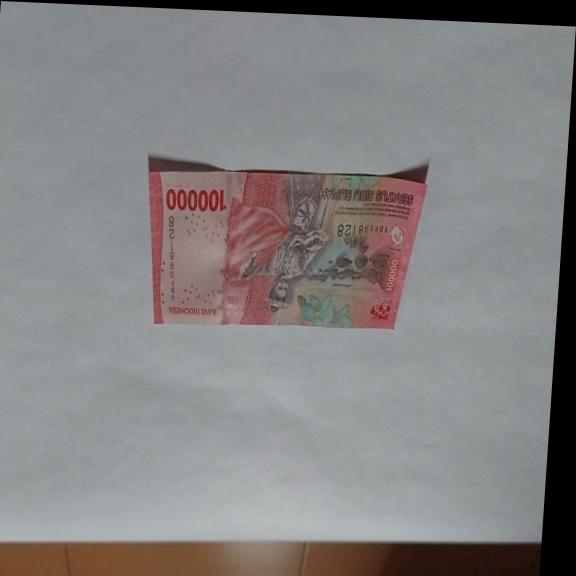Kertas: (136, 152, 428, 337), (163, 185, 227, 216)
